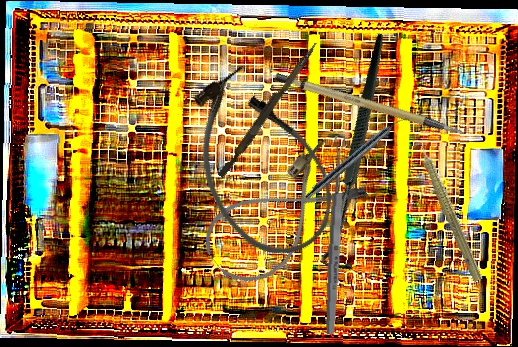Cannula: (164, 51, 354, 277), (193, 135, 372, 298)
Handpiece: (410, 131, 489, 284), (302, 110, 411, 204)
Hook Surgical: (242, 32, 481, 281)
Pusher: (217, 38, 319, 181)
Scalpel Handle: (272, 48, 467, 165)
Surgical Spoon: (323, 135, 348, 335)
